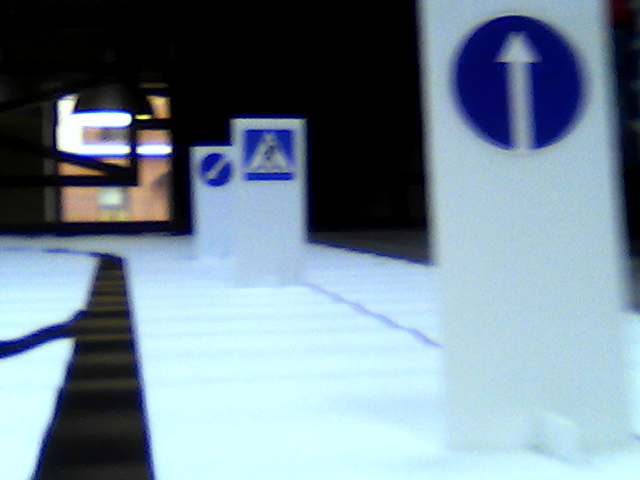forw: (449, 14, 586, 152)
pesh: (242, 127, 298, 182)
prep: (200, 152, 234, 189)
